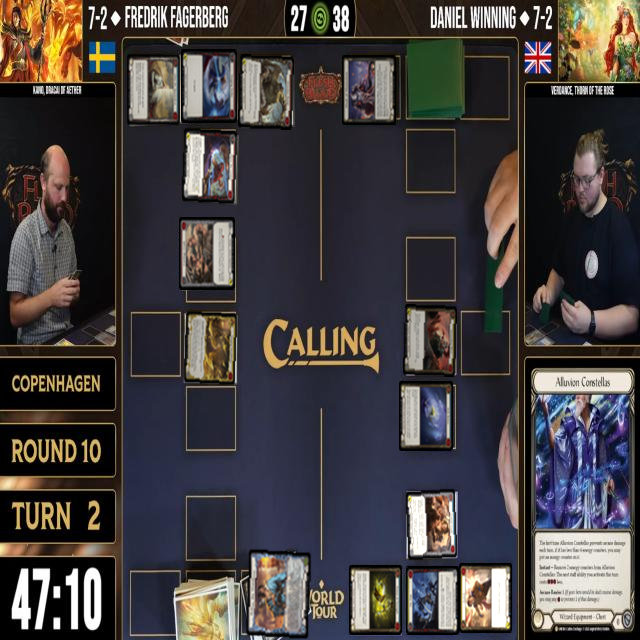Cartilage_Crush_WTR060: (180, 218, 236, 290)
Cranial_Crush_WTR045: (405, 488, 459, 562)
Flic_Flak_WTR093: (406, 566, 459, 636)
Glint_the_Quicksilver_WTR118: (127, 54, 182, 126)
Katsu,_the_Wanderer_WTR076: (245, 548, 312, 640)
Mask_of_Momentum_WTR079: (343, 56, 397, 126)
Open_the_Center_WTR095: (182, 127, 239, 205)
Potion_of_Strength_WTR171: (350, 566, 402, 636)
Singing_Steelblade_WTR121: (183, 310, 239, 386)
Sink_Below_WTR217: (399, 382, 454, 452)
Snatch_WTR168: (460, 564, 512, 634)
Surging_Strike_WTR107: (181, 50, 238, 124)
Wounding_Blow_WTR204: (404, 304, 458, 378)
Wrecker_Romp_WTR029: (239, 54, 295, 130)
